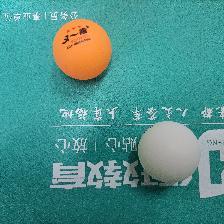WhiteBall: (137, 120, 201, 184)
YellowBall: (51, 18, 112, 81)
